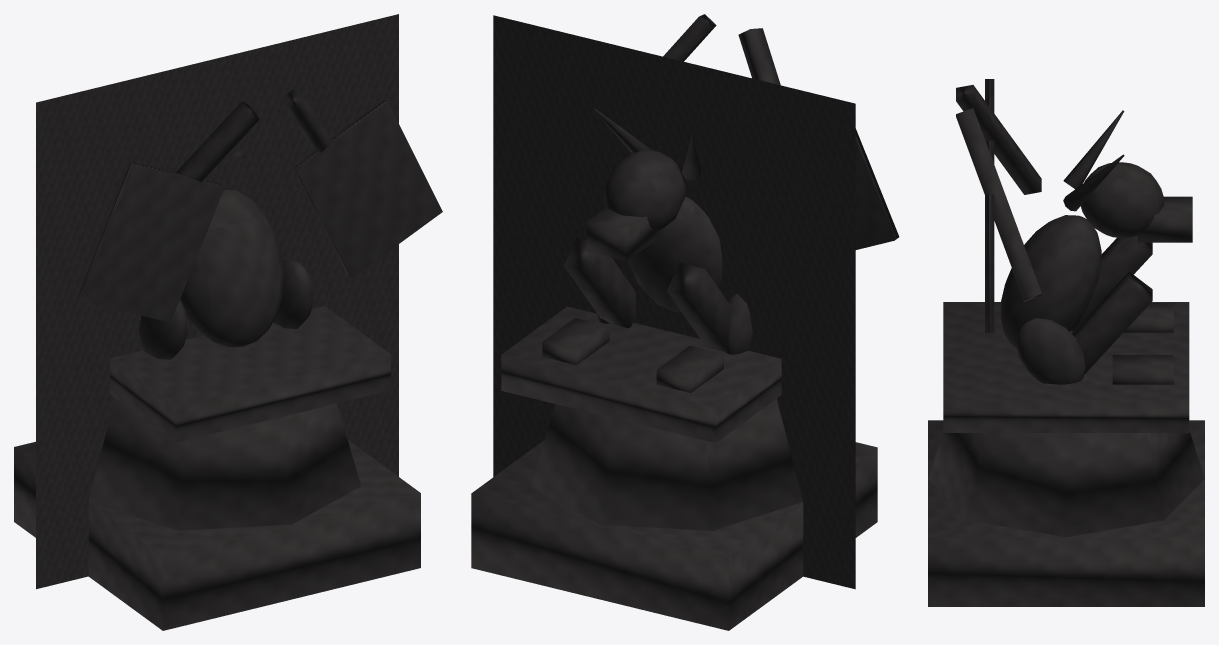
The model's file is Gargoyle_DarkStone_MultiLOD.glb.
3 renders of one model, left to right at view 1: azimuth 30°, elevation 25°; view 2: azimuth 150°, elevation 25°; view 3: azimuth 270°, elevation 25°, orthographic. The views are drawn at different scales.
Parts seen in each view (by area): view 1: Gargoyle_DarkStone_LOD0, Gargoyle_DarkStone_Impostor; view 2: Gargoyle_DarkStone_LOD0, Gargoyle_DarkStone_Impostor; view 3: Gargoyle_DarkStone_LOD0.
Part boxes in pixels (left/top/right/bottom): Gargoyle_DarkStone_LOD0: left=14, top=89, right=442, bottom=630; Gargoyle_DarkStone_Impostor: left=36, top=14, right=398, bottom=589; Gargoyle_DarkStone_LOD0: left=471, top=14, right=899, bottom=630; Gargoyle_DarkStone_Impostor: left=493, top=15, right=855, bottom=589; Gargoyle_DarkStone_LOD0: left=928, top=79, right=1204, bottom=606.
Size of what is drawn, in the model's own units: 1.27 by 1.62 by 0.9.
Materials: 1 (1 with a texture image).
